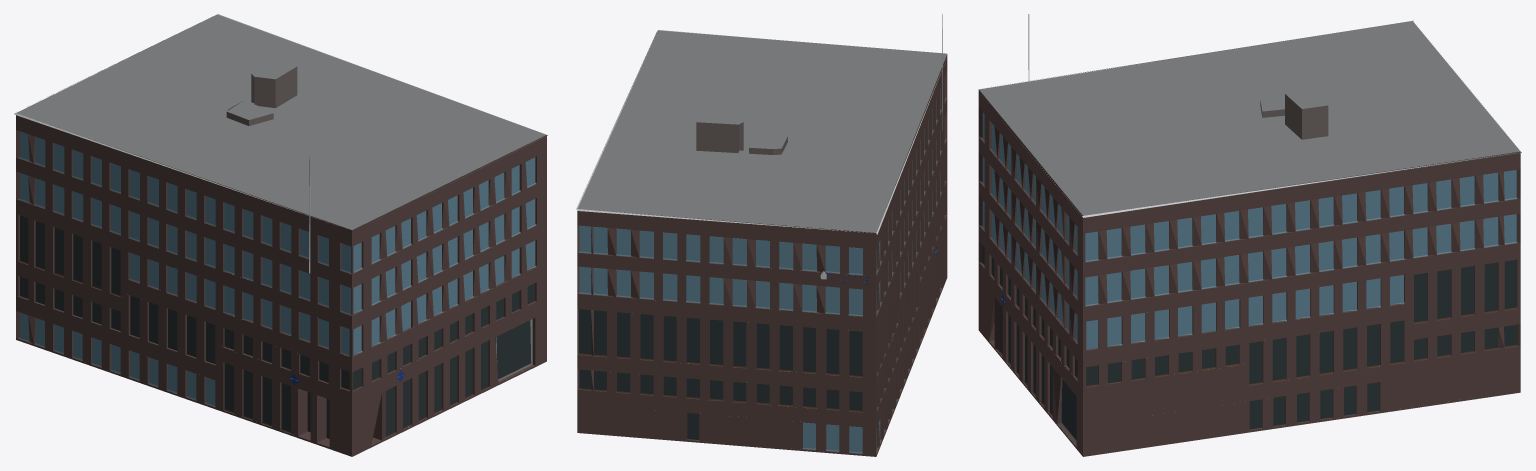
The model's file is politie-oost-watergraafsmeer.lod1.glb.
3 renders of one model, left to right at view 1: azimuth 30°, elevation 25°; view 2: azimuth 150°, elevation 25°; view 3: azimuth 270°, elevation 25°, orthographic. The views are drawn at different scales.
Visible parts, largest first — view 1: politie-oost-watergraafsmeer; view 2: politie-oost-watergraafsmeer; view 3: politie-oost-watergraafsmeer.
Part boxes in pixels (x1,y1,x2,y2): politie-oost-watergraafsmeer: (14,14,547,456); politie-oost-watergraafsmeer: (576,14,947,456); politie-oost-watergraafsmeer: (978,14,1521,456).
Size of the model in its own units: 34.31 by 25 by 40.25.
